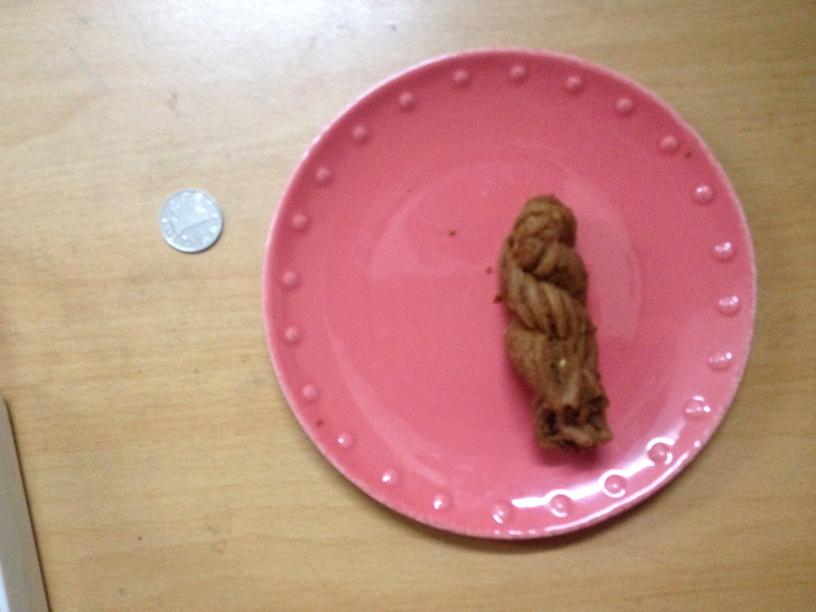coin: (156, 186, 224, 253)
fired_dough_twist: (503, 191, 612, 451)
